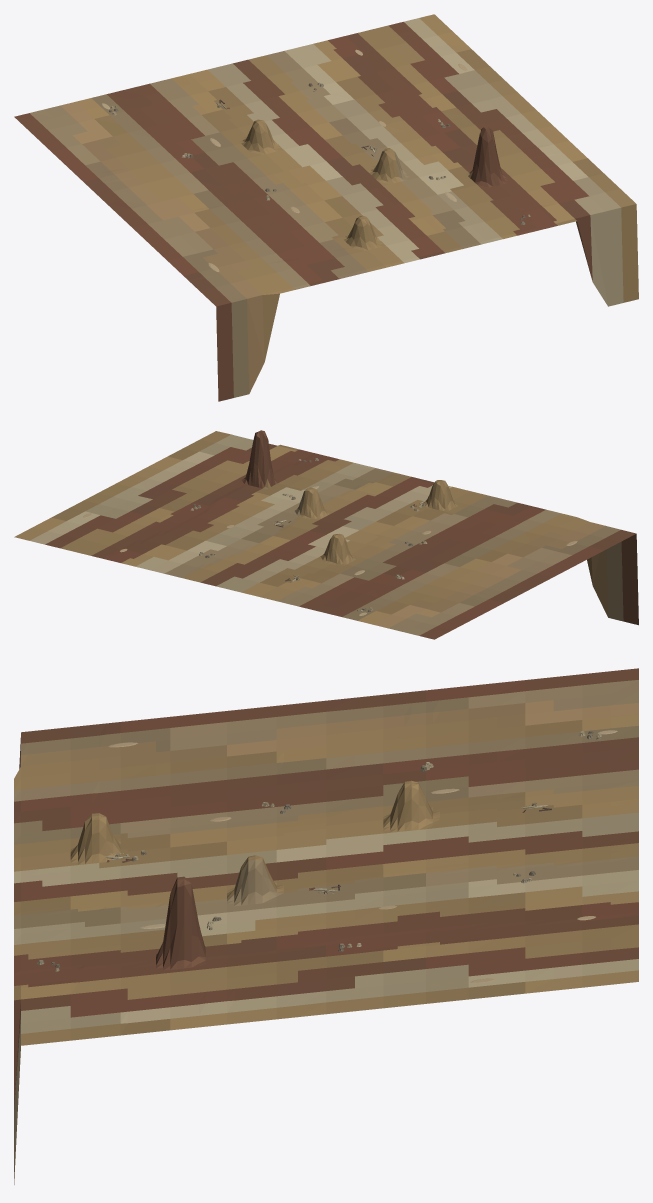
The model's file is liner_watch_butte_crest.glb.
3 renders of one model, top to bottom at view 1: azimuth 30°, elevation 25°; view 2: azimuth 150°, elevation 25°; view 3: azimuth 270°, elevation 25°, orthographic. The views are drawn at different scales.
Parts seen in each view (by area): view 1: liner_watch_butte_crest_body; view 2: liner_watch_butte_crest_body; view 3: liner_watch_butte_crest_body.
Part boxes in pixels (<box>): liner_watch_butte_crest_body: <box>14,14,638,401</box>; liner_watch_butte_crest_body: <box>14,430,638,639</box>; liner_watch_butte_crest_body: <box>14,668,638,1184</box>.
Size of the model in its own units: 260 by 91.89 by 219.
